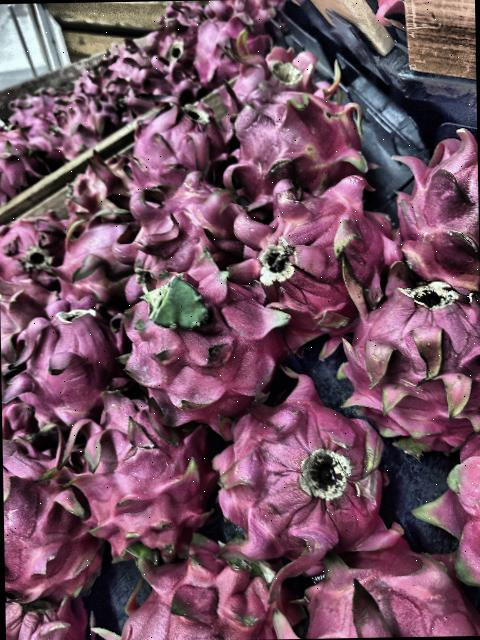buah-naga-belum-matang: (56, 161, 130, 220)
buah-naga-matang: (209, 382, 396, 554), (339, 259, 480, 450), (62, 380, 207, 550), (118, 266, 278, 416), (232, 186, 392, 326), (107, 523, 289, 640), (293, 528, 476, 639), (3, 432, 104, 604), (393, 130, 479, 304), (223, 83, 362, 183), (124, 178, 248, 274), (13, 308, 118, 408), (50, 217, 148, 300), (123, 106, 226, 180), (212, 32, 312, 96), (0, 212, 65, 281)
